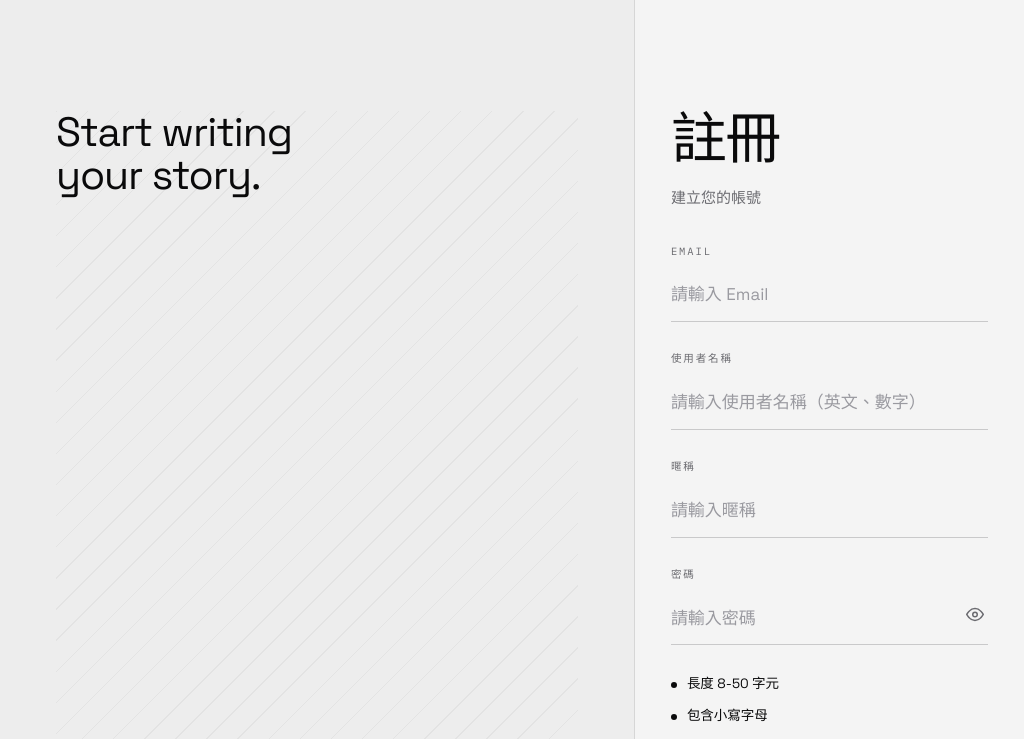
Scenario: RegisterView › 註冊成功後右欄原地顯示成功畫面並回顯 email（不跳頁、不彈 toast）
This screenshot has width=1024, height=739.
Type "test@example.com" into the field with placeholder "請輸入 Email".
click(829, 295); type("test@example.com")  # box [671, 268, 988, 322]
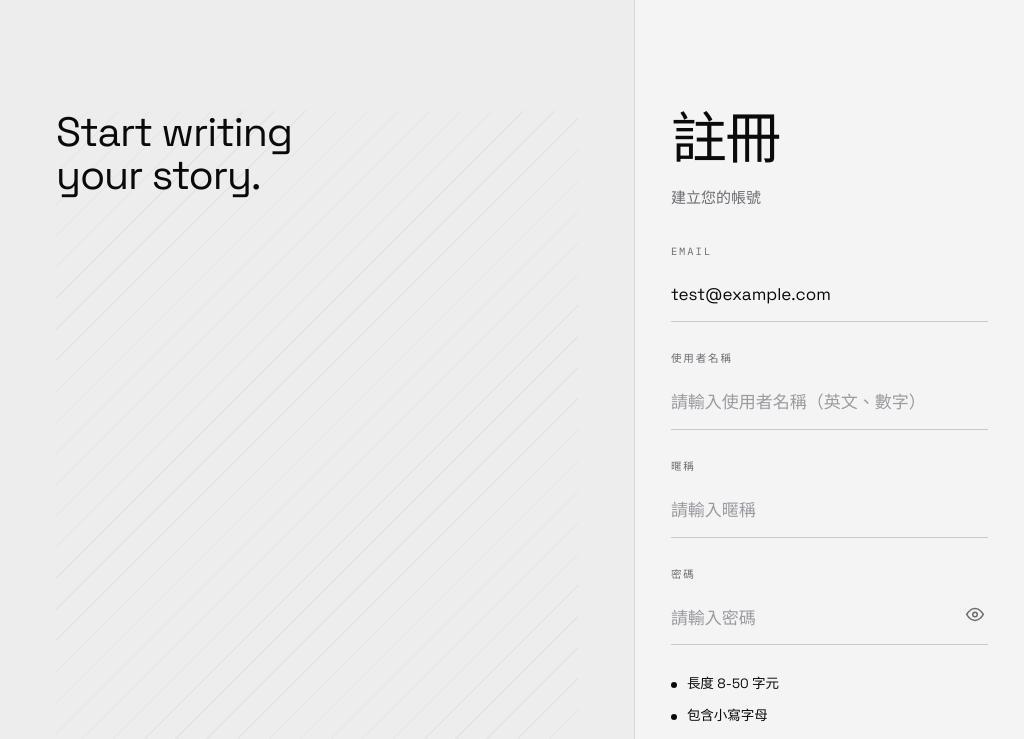
Type "test_user" into the field with placeholder "請輸入使用者名稱（英文、數字）".
click(829, 403); type("test_user")  # box [671, 376, 988, 430]
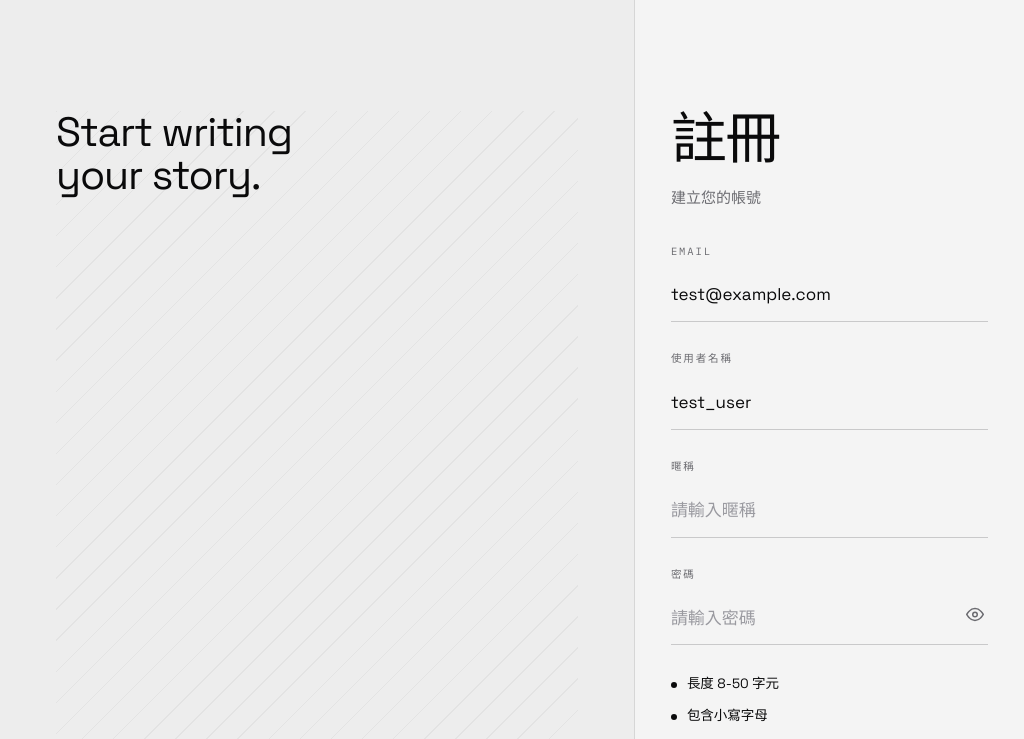
Type "TestUser" into the field with placeholder "請輸入暱稱".
click(829, 511); type("TestUser")  # box [671, 484, 988, 538]
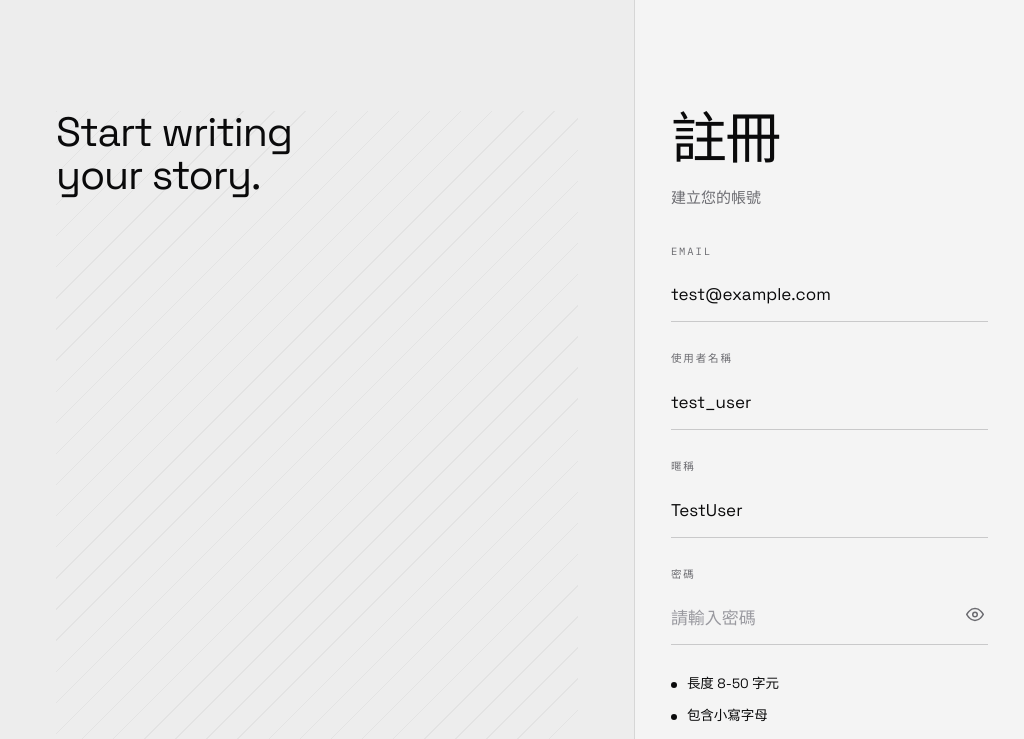
Type "Password123!" into the password field with placeholder "請輸入密碼".
click(829, 618); type("Password123!")  # box [671, 592, 988, 645]
(page scrolled)
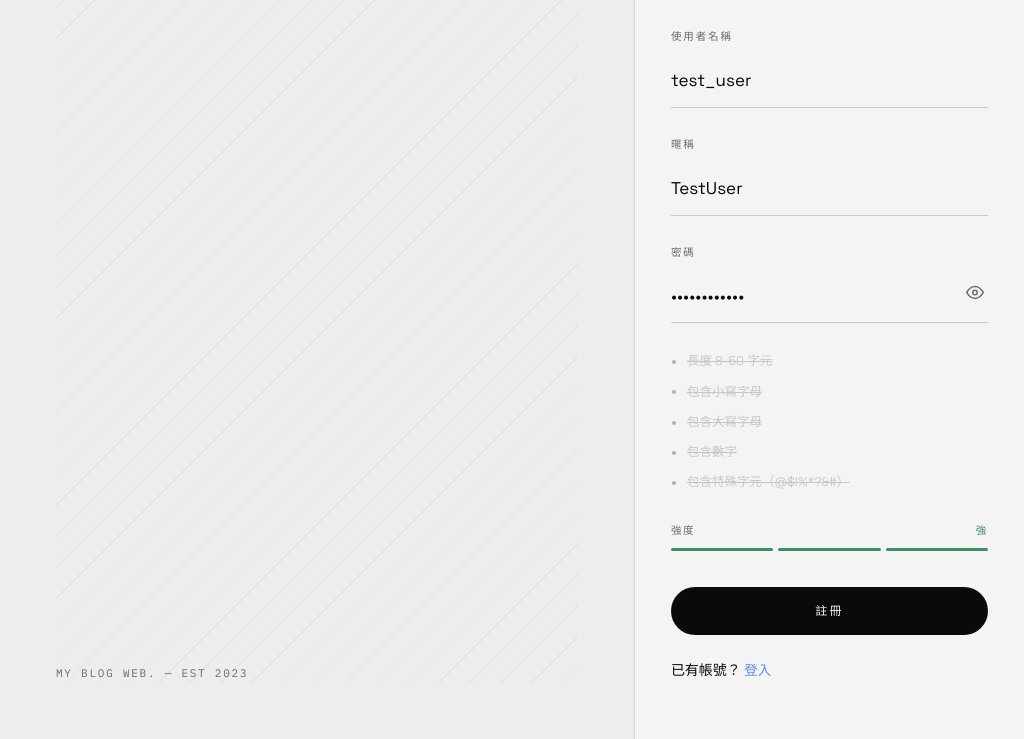
Click the button "註冊".
click(829, 611)  # box [671, 586, 988, 635]
(page scrolled)
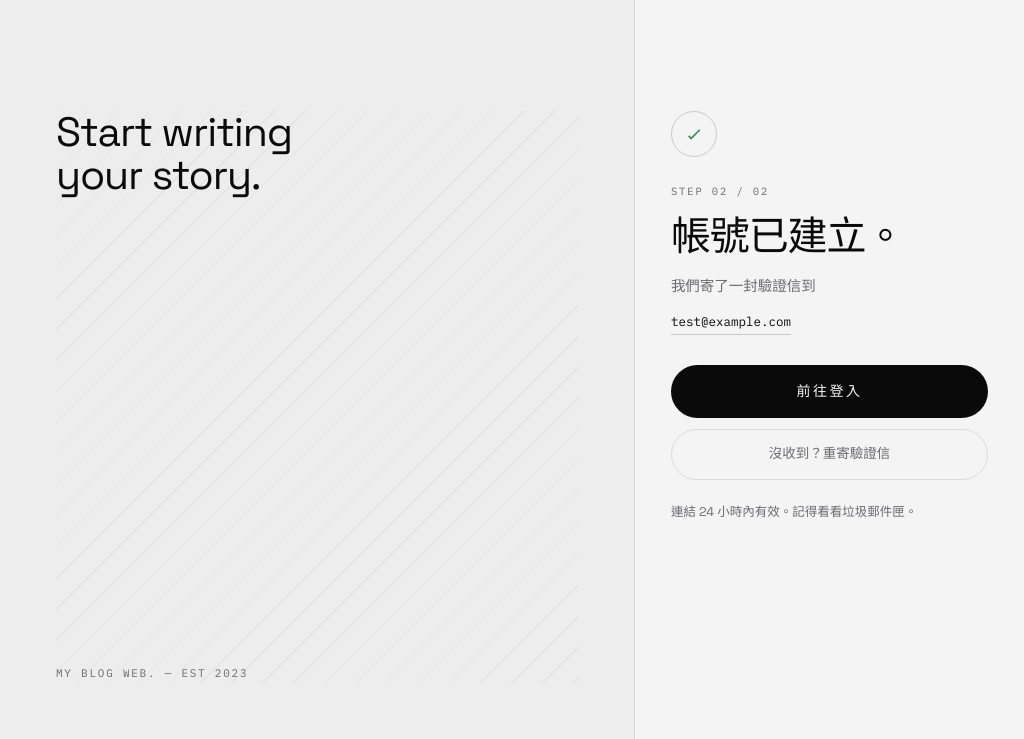
Expected: the element with test id "auth-register-success" is shown, [671, 111, 988, 524]
Expected: the text with test id "auth-register-success-email" reads "test@example.com", [671, 313, 791, 329]
